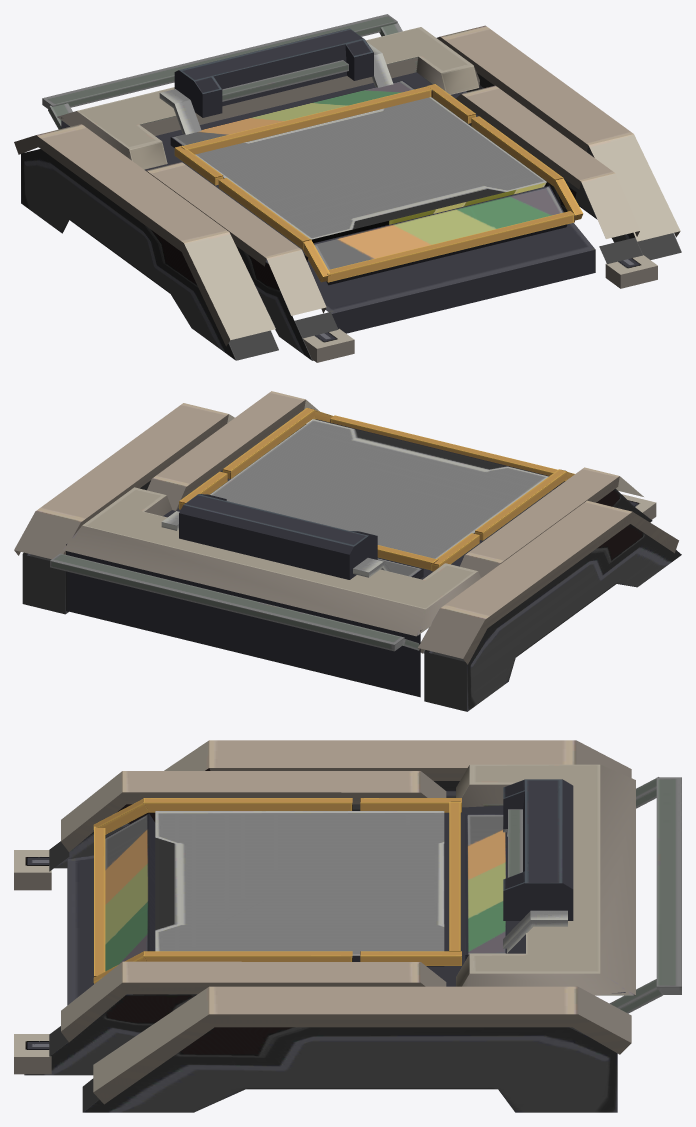
The model's file is trap_169_muruinb2.fbx.
The picture shows the model from 3 angles, top to bottom: view 1: azimuth 30°, elevation 25°; view 2: azimuth 150°, elevation 25°; view 3: azimuth 270°, elevation 25°; orthographic projection. The views are drawn at different scales.
Visible parts, largest first — view 1: trap_169_muruinb2; view 2: trap_169_muruinb2; view 3: trap_169_muruinb2.
Part boxes in pixels (x1,y1,x2,y2): trap_169_muruinb2: [14, 14, 681, 362]; trap_169_muruinb2: [14, 391, 681, 711]; trap_169_muruinb2: [14, 740, 681, 1112].
Bounding box in the file's own units: 0.9599 × 0.2381 × 0.9923.
1 material, 1 textured.
